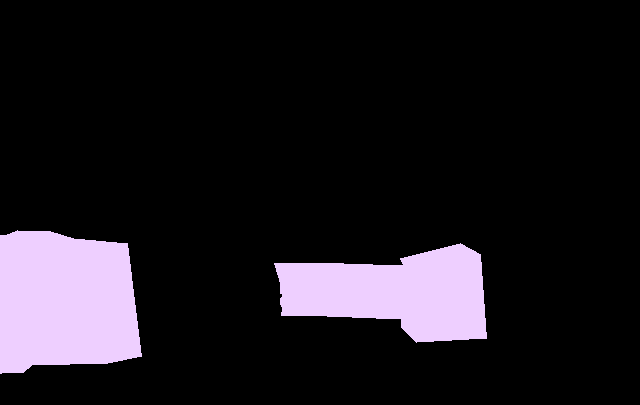Train: (0, 230, 141, 373), (400, 243, 486, 343), (274, 263, 402, 320)
